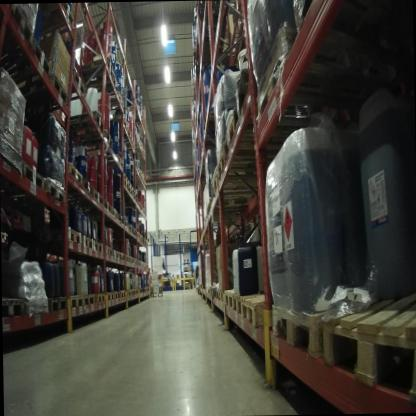pallet: (254, 30, 379, 129), (322, 284, 416, 405), (270, 289, 363, 376), (221, 109, 317, 166), (227, 65, 305, 131), (291, 0, 388, 37), (5, 31, 54, 93), (7, 71, 71, 110), (216, 146, 275, 184), (242, 279, 280, 326), (210, 171, 276, 195), (58, 108, 104, 138), (34, 219, 82, 246), (1, 4, 35, 42), (40, 4, 79, 36), (75, 63, 114, 90), (21, 154, 48, 192), (78, 129, 114, 154), (232, 286, 261, 317), (204, 197, 260, 213), (70, 56, 114, 74), (2, 293, 27, 323), (45, 173, 68, 203), (24, 293, 51, 317), (89, 76, 120, 96), (202, 107, 222, 133), (67, 157, 84, 186), (46, 292, 69, 313), (103, 152, 126, 171), (105, 114, 128, 130), (115, 124, 132, 145), (104, 94, 126, 110), (97, 191, 112, 213), (223, 288, 237, 309), (83, 172, 94, 198), (81, 234, 94, 254), (68, 292, 84, 308), (93, 239, 106, 257), (81, 292, 96, 307), (93, 189, 103, 209), (104, 243, 113, 260), (217, 290, 227, 304), (122, 104, 139, 112), (125, 140, 136, 152), (118, 171, 129, 182), (120, 179, 129, 192), (96, 290, 105, 303), (111, 207, 119, 221), (106, 290, 115, 301), (150, 291, 164, 298), (121, 218, 129, 230), (112, 248, 118, 262), (117, 251, 125, 261), (114, 290, 122, 300), (128, 222, 134, 234), (131, 162, 139, 171), (124, 253, 131, 262), (132, 192, 137, 203), (127, 179, 132, 189), (128, 184, 132, 196), (119, 212, 123, 224), (119, 289, 125, 297), (131, 287, 136, 296), (132, 185, 136, 196), (122, 214, 128, 220), (126, 290, 132, 296), (130, 256, 133, 266), (135, 288, 139, 294)
